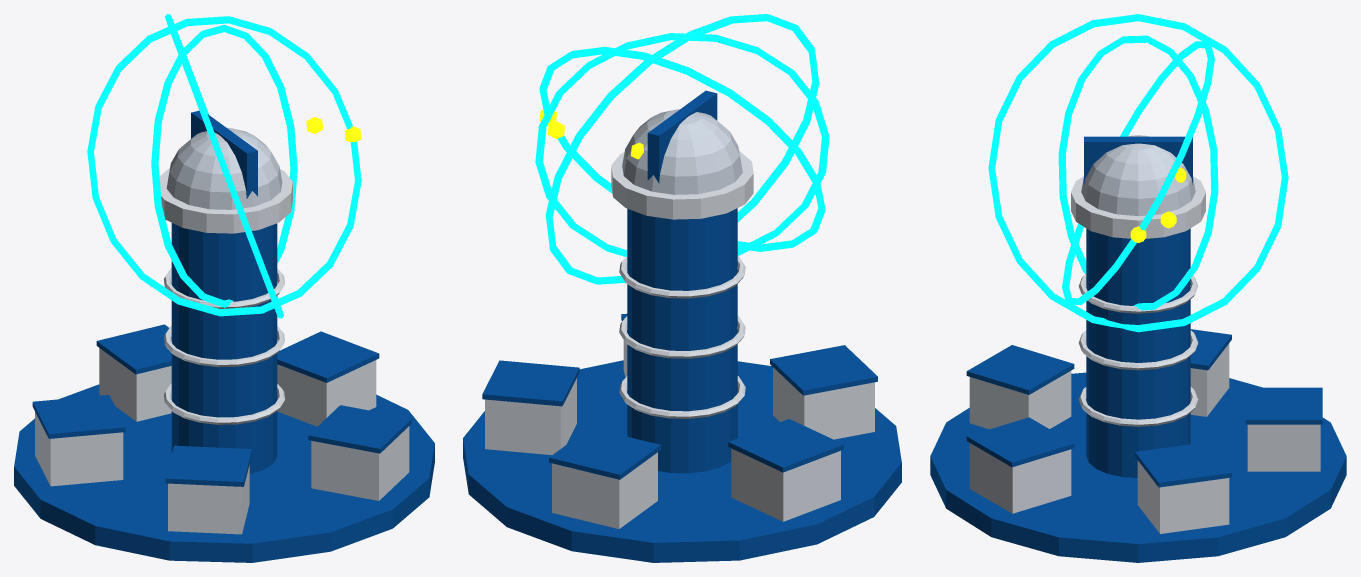
File: hcmus_hq.glb
3 views of the same model, side by side, from view 1: azimuth 30°, elevation 25°; view 2: azimuth 150°, elevation 25°; view 3: azimuth 270°, elevation 25° (orthographic). The views are drawn at different scales.
Parts seen in each view (by area): view 1: HCMUS_Pad, HCMUS_CoreTower, HCMUS_Orbital_0, HCMUS_ObsDome, HCMUS_Lab_3, HCMUS_Orbital_2, HCMUS_Lab_1, HCMUS_Lab_4, HCMUS_Lab_2, HCMUS_DomeBase, HCMUS_Lab_0, HCMUS_LabCap_3 (+9 smaller); view 2: HCMUS_Pad, HCMUS_CoreTower, HCMUS_ObsDome, HCMUS_Lab_1, HCMUS_Orbital_1, HCMUS_Lab_0, HCMUS_Orbital_2, HCMUS_Lab_4, HCMUS_Lab_2, HCMUS_Orbital_0, HCMUS_DomeBase, HCMUS_LabCap_1 (+7 smaller); view 3: HCMUS_Pad, HCMUS_CoreTower, HCMUS_Orbital_1, HCMUS_ObsDome, HCMUS_Lab_3, HCMUS_Orbital_2, HCMUS_Lab_4, HCMUS_Lab_2, HCMUS_Orbital_0, HCMUS_Lab_0, HCMUS_DomeBase, HCMUS_LabCap_2 (+9 smaller).
Part boxes in pixels (x1=…): HCMUS_Pad: x1=14, y1=384, x2=434, y2=562; HCMUS_CoreTower: x1=171, y1=223, x2=277, y2=474; HCMUS_Orbital_0: x1=87, y1=16, x2=361, y2=316; HCMUS_ObsDome: x1=166, y1=127, x2=282, y2=209; HCMUS_Lab_3: x1=311, y1=426, x2=409, y2=500; HCMUS_Orbital_2: x1=151, y1=24, x2=297, y2=307; HCMUS_Lab_1: x1=35, y1=412, x2=123, y2=486; HCMUS_Lab_4: x1=277, y1=360, x2=376, y2=426; HCMUS_Lab_2: x1=168, y1=464, x2=249, y2=534; HCMUS_DomeBase: x1=159, y1=168, x2=292, y2=233; HCMUS_Lab_0: x1=99, y1=348, x2=171, y2=421; HCMUS_LabCap_3: x1=308, y1=405, x2=411, y2=453; HCMUS_Pad: x1=463, y1=360, x2=901, y2=562; HCMUS_CoreTower: x1=627, y1=208, x2=737, y2=473; HCMUS_ObsDome: x1=622, y1=109, x2=742, y2=194; HCMUS_Lab_1: x1=731, y1=448, x2=840, y2=521; HCMUS_Orbital_1: x1=545, y1=14, x2=819, y2=284; HCMUS_Lab_0: x1=552, y1=452, x2=657, y2=528; HCMUS_Orbital_2: x1=535, y1=33, x2=829, y2=256; HCMUS_Lab_4: x1=485, y1=378, x2=576, y2=454; HCMUS_Lab_2: x1=773, y1=367, x2=874, y2=439; HCMUS_Orbital_0: x1=539, y1=46, x2=825, y2=251; HCMUS_DomeBase: x1=611, y1=151, x2=753, y2=219; HCMUS_LabCap_1: x1=728, y1=419, x2=843, y2=472; HCMUS_Pad: x1=930, y1=372, x2=1346, y2=562; HCMUS_CoreTower: x1=1086, y1=228, x2=1190, y2=477; HCMUS_Orbital_1: x1=988, y1=14, x2=1288, y2=332; HCMUS_ObsDome: x1=1081, y1=135, x2=1195, y2=216; HCMUS_Lab_3: x1=969, y1=443, x2=1071, y2=513; HCMUS_Orbital_2: x1=1058, y1=35, x2=1218, y2=310; HCMUS_Lab_4: x1=1137, y1=460, x2=1229, y2=533; HCMUS_Lab_2: x1=969, y1=371, x2=1071, y2=429; HCMUS_Orbital_0: x1=1062, y1=41, x2=1214, y2=304; HCMUS_Lab_0: x1=1247, y1=424, x2=1320, y2=471; HCMUS_DomeBase: x1=1071, y1=176, x2=1205, y2=238; HCMUS_LabCap_2: x1=966, y1=345, x2=1074, y2=394.
Size of the model in its own units: 40 by 46.42 by 40.
